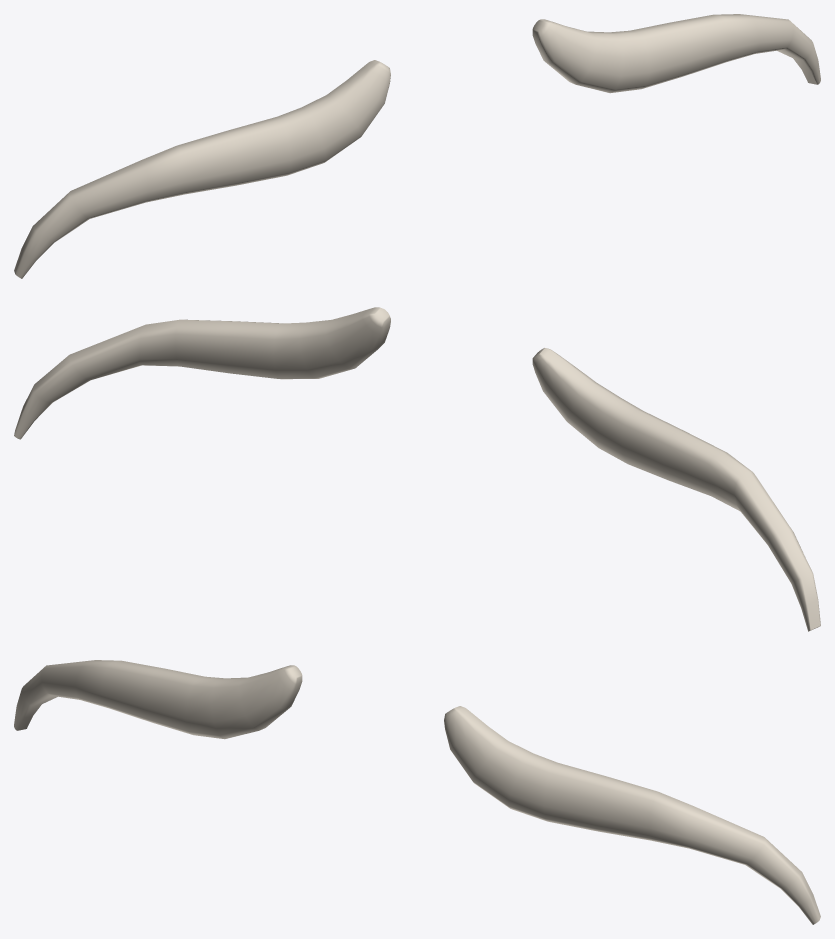
The model's file is Eyebrows_21_07.fbx.
3 views of the same model, one above another, from view 1: azimuth 30°, elevation 25°; view 2: azimuth 150°, elevation 25°; view 3: azimuth 330°, elevation 25° (orthographic).
Parts seen in each view (by area): view 1: Eyebrows_21_07; view 2: Eyebrows_21_07; view 3: Eyebrows_21_07.
Boxes of the visible parts, <box> form: Eyebrows_21_07: <box>14,14,820,278</box>; Eyebrows_21_07: <box>14,307,820,631</box>; Eyebrows_21_07: <box>14,660,820,924</box>.
Bounding box in the file's own units: 18.62 × 3.81 × 2.44.
